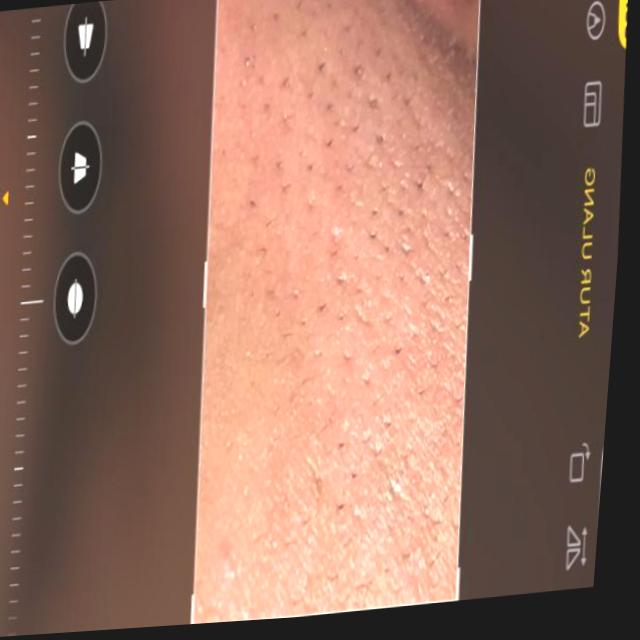blackhead: (228, 0, 456, 493)
